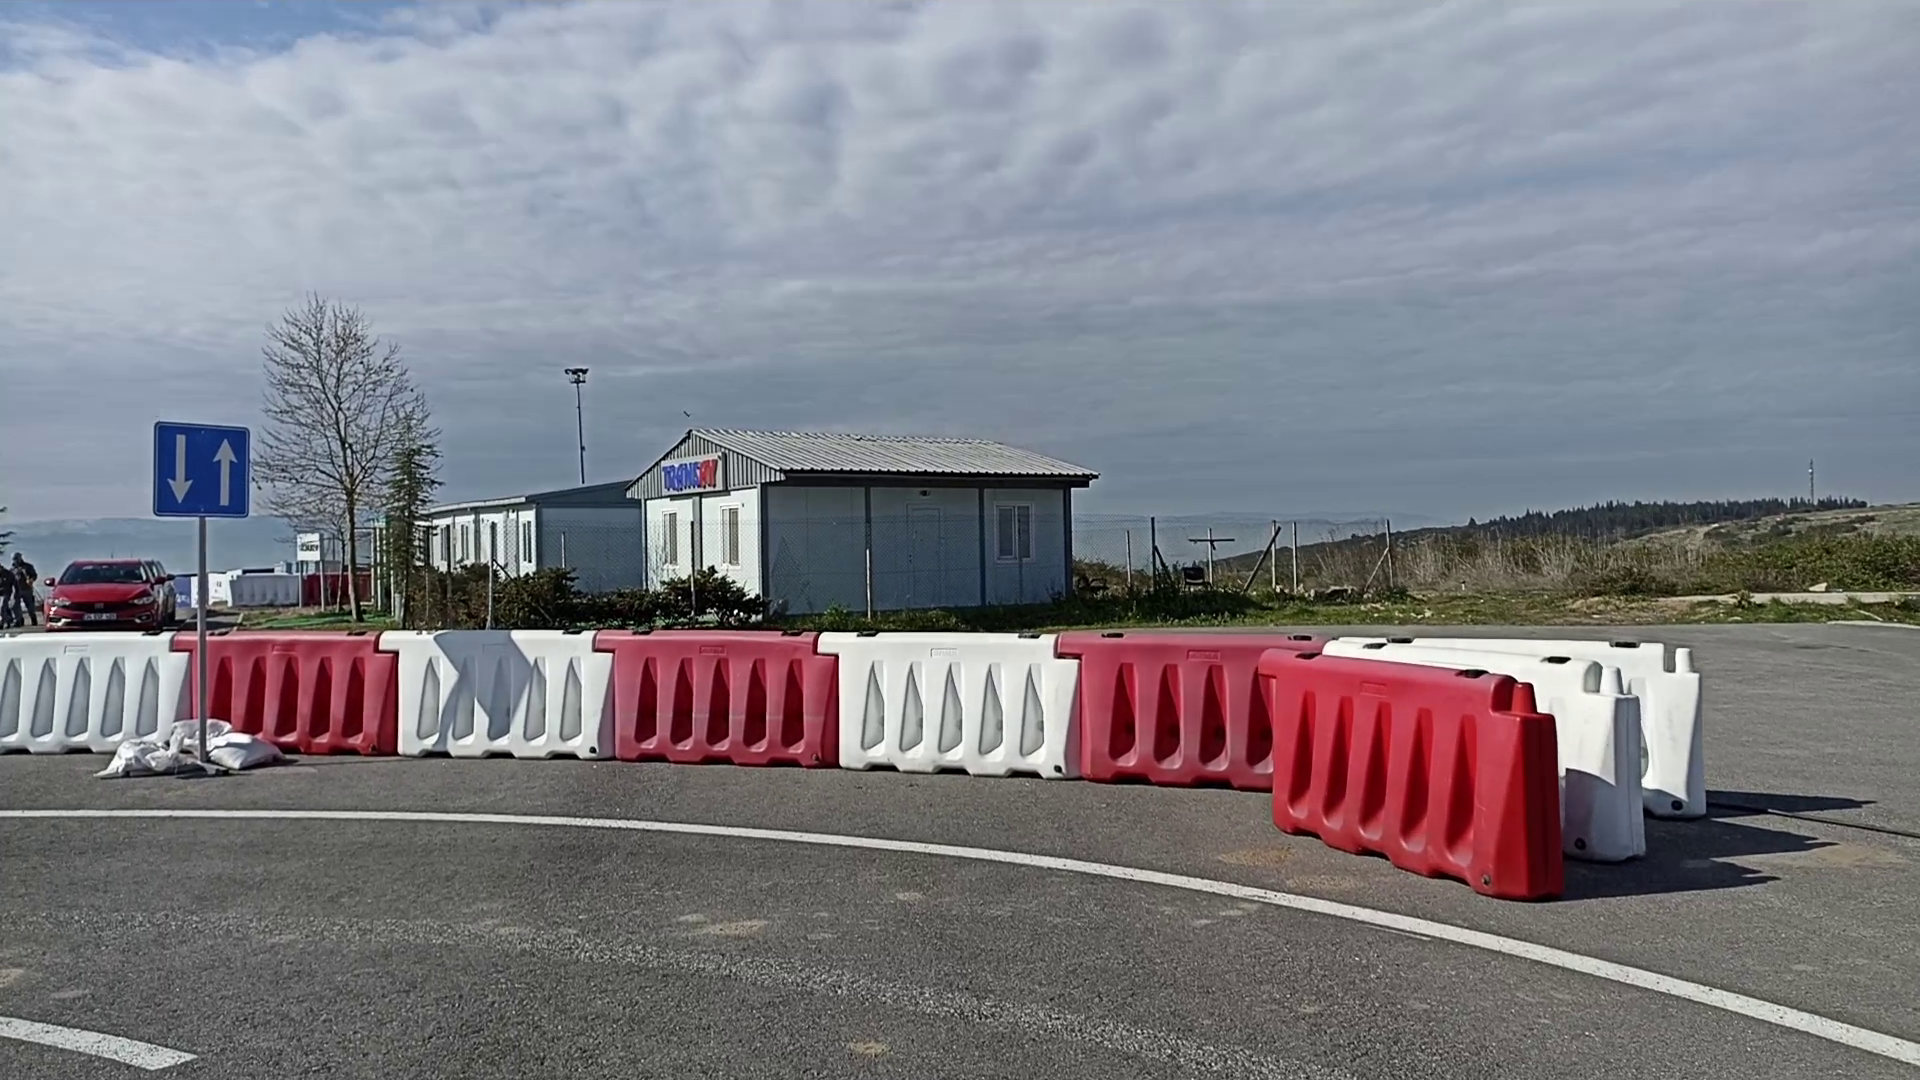oneway: (150, 415, 252, 520)
